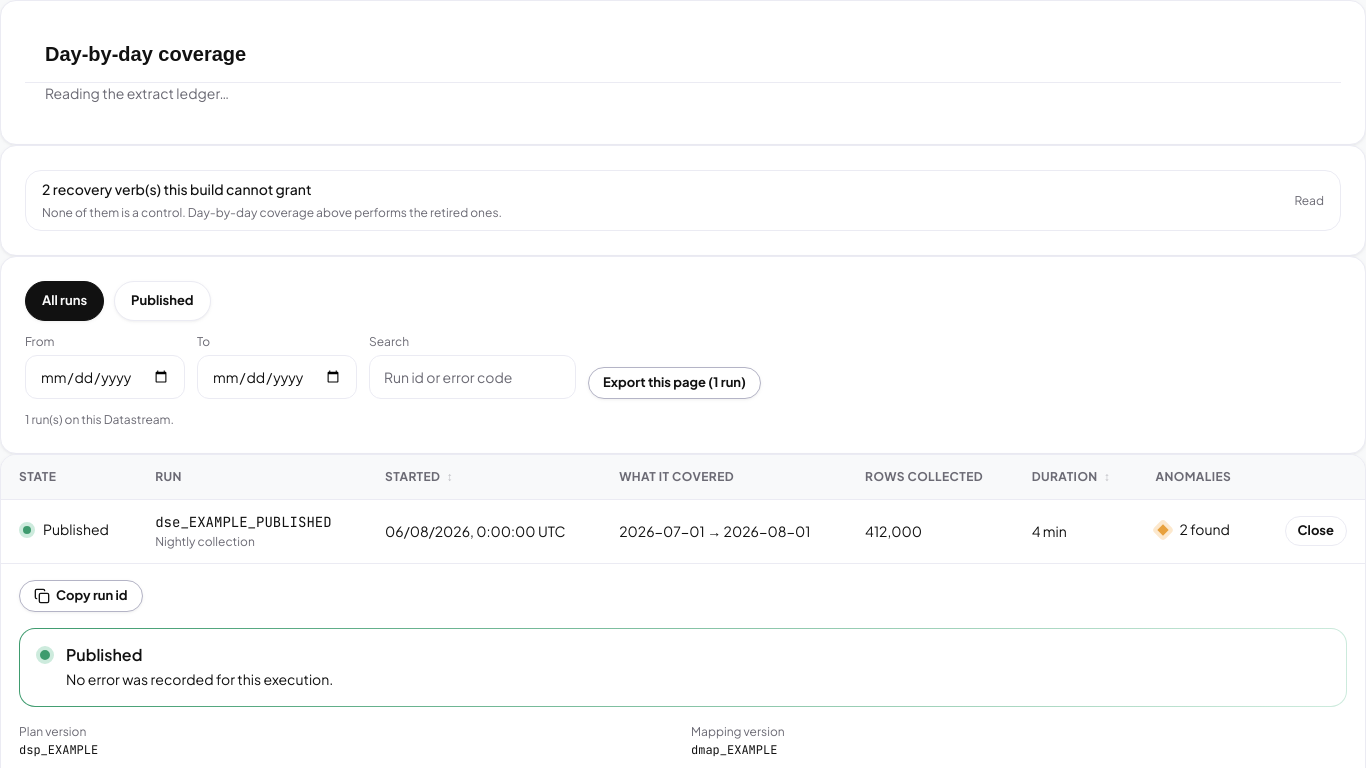
Test: filtering and the strip › folds the unpressable verbs, and keeps every word of them behind the disclosure
Expected: the text "Nothing here can be asked for" is not shown
Click the button with test id "recovery-verbs-trigger" at (177, 189), box top-left (25, 170), bottom-right (1341, 231)
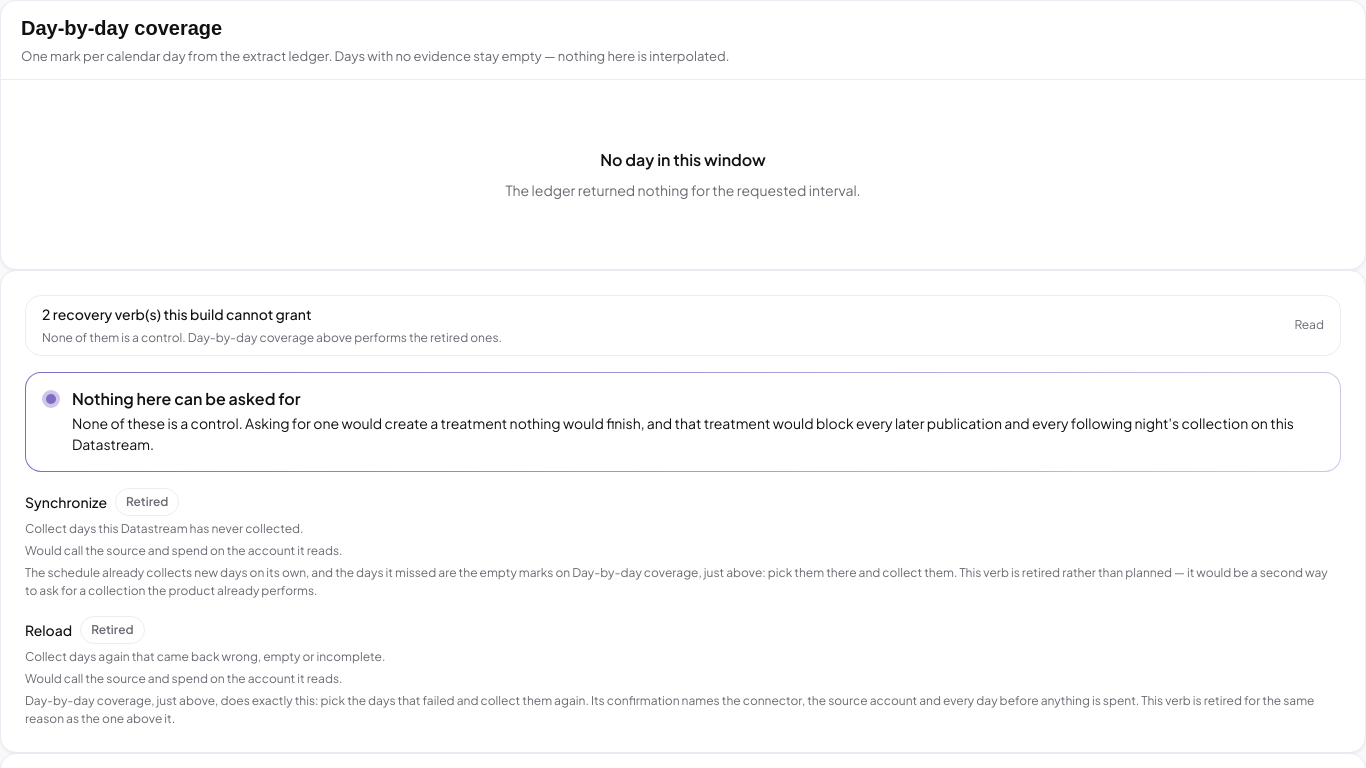
Result: the text "Nothing here can be asked for" is shown at top-left (72, 388), bottom-right (300, 408)
Result: the text "would block every later publication and every following night's collection" is shown at top-left (72, 414), bottom-right (1294, 453)
